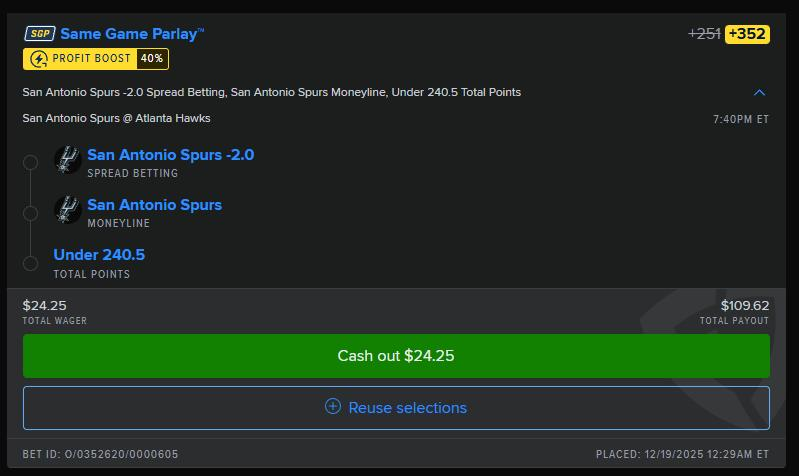game: (21, 111, 213, 126)
odds: (726, 26, 768, 43)
payout: (719, 299, 771, 314)
wager: (20, 297, 69, 314)
